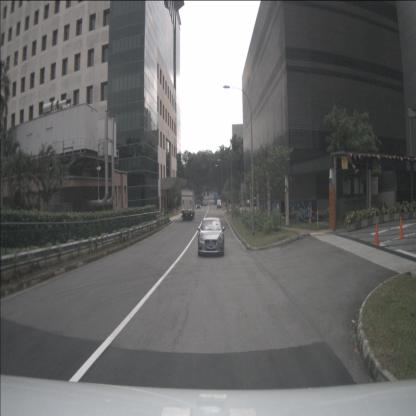cone: (372, 223, 381, 245), (397, 216, 405, 238)
